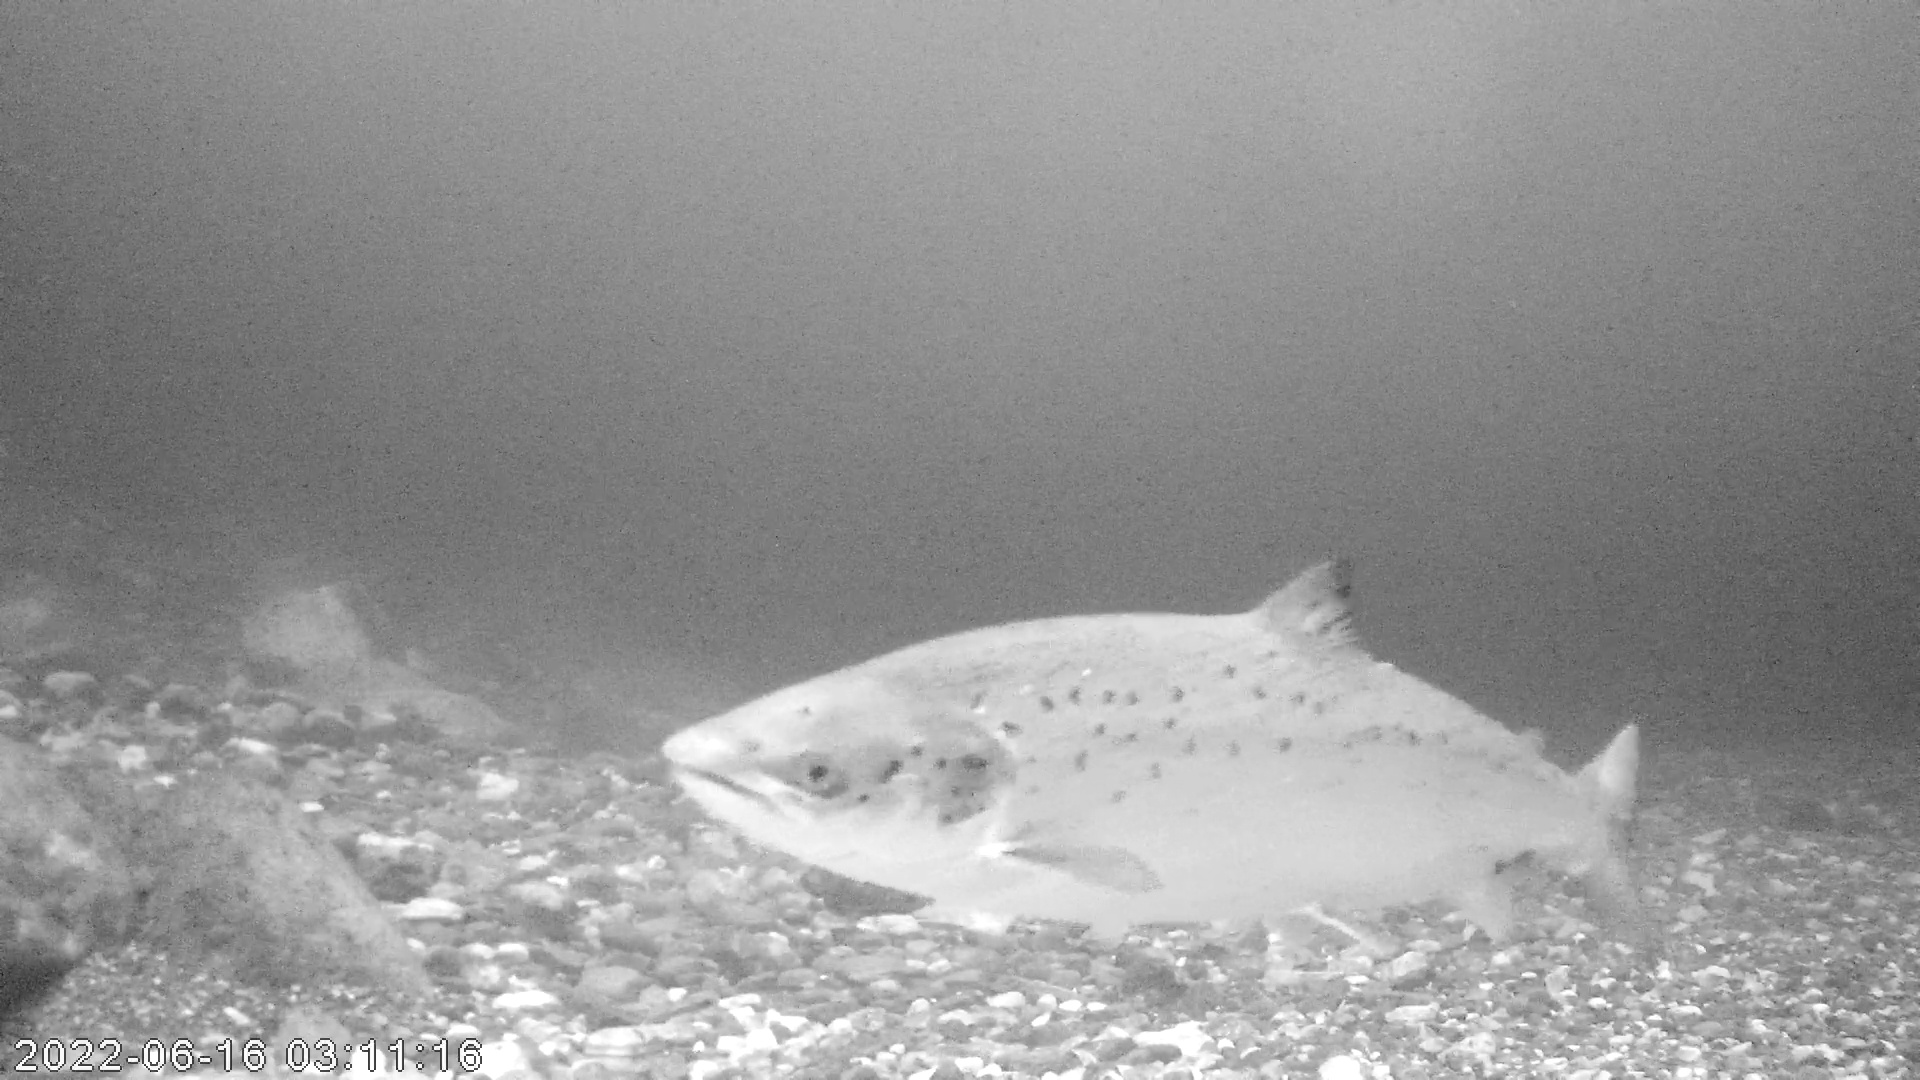salmon: (659, 555, 1655, 949)
